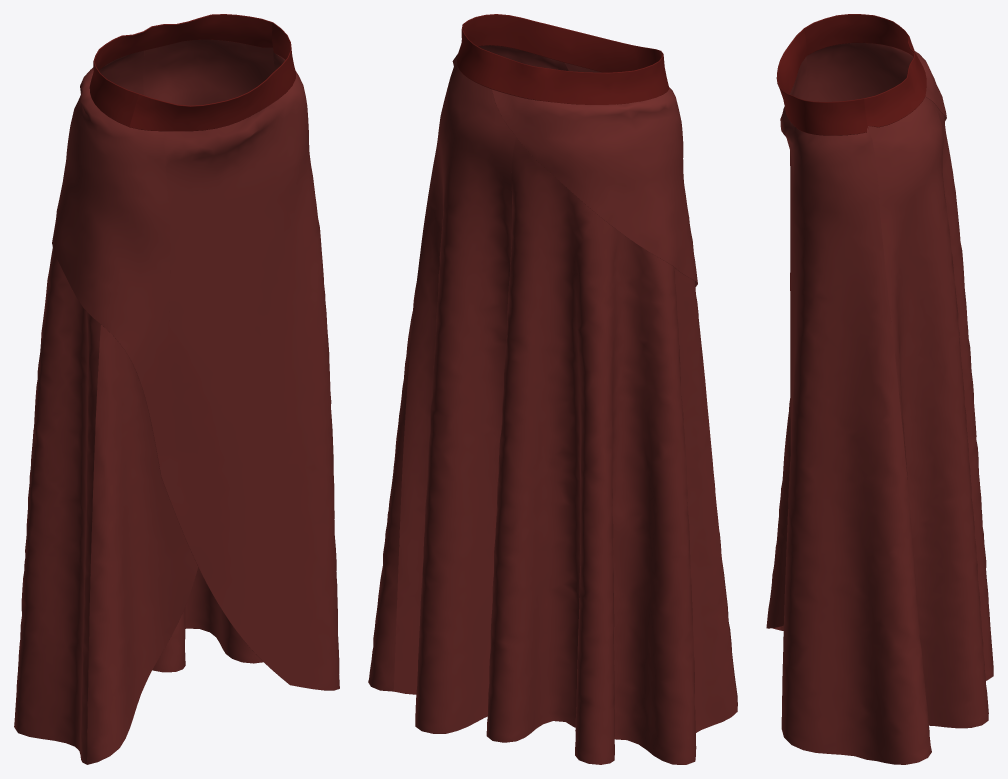
The model's file is skirt.gltf.
3 renders of one model, left to right at view 1: azimuth 30°, elevation 25°; view 2: azimuth 150°, elevation 25°; view 3: azimuth 270°, elevation 25°, orthographic. The views are drawn at different scales.
Visible parts, largest first — view 1: Pattern2D_3699508, Pattern2D_3660997; view 2: Pattern2D_3699508, Pattern2D_3660997; view 3: Pattern2D_3699508, Pattern2D_3660997.
Part boxes in pixels (x1,y1,x2,y2): Pattern2D_3699508: (14, 39, 339, 764); Pattern2D_3660997: (89, 14, 295, 131); Pattern2D_3699508: (368, 45, 737, 764); Pattern2D_3660997: (457, 14, 669, 104); Pattern2D_3699508: (766, 43, 993, 764); Pattern2D_3660997: (776, 14, 926, 135).
Bounding box in the file's own units: 2.74 × 5.62 × 1.78.
